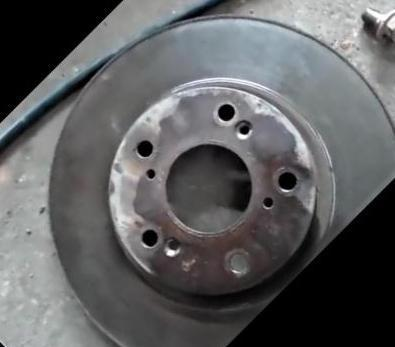hole: (272, 165, 301, 194), (224, 247, 252, 276), (135, 223, 163, 251), (158, 232, 186, 260), (228, 114, 256, 142), (212, 97, 239, 125), (132, 135, 158, 161), (259, 192, 276, 209), (142, 165, 159, 181)
